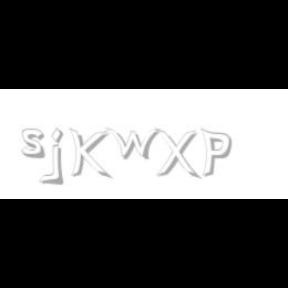K: (69, 128, 109, 180)
P: (200, 128, 232, 178)
X: (154, 128, 198, 180)
j: (48, 128, 78, 186)
s: (21, 128, 49, 160)
w: (106, 128, 164, 160)
